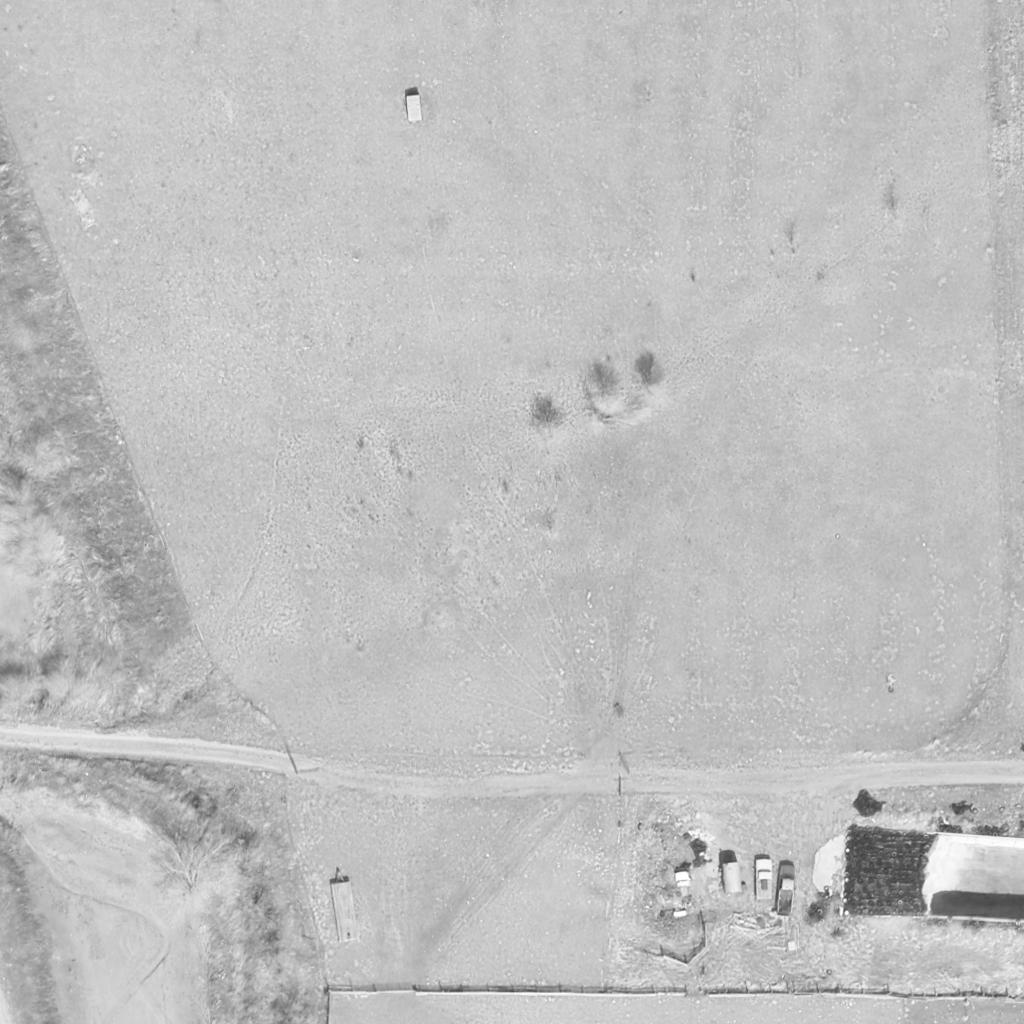vehicle: (777, 863, 795, 917), (754, 858, 774, 902)
